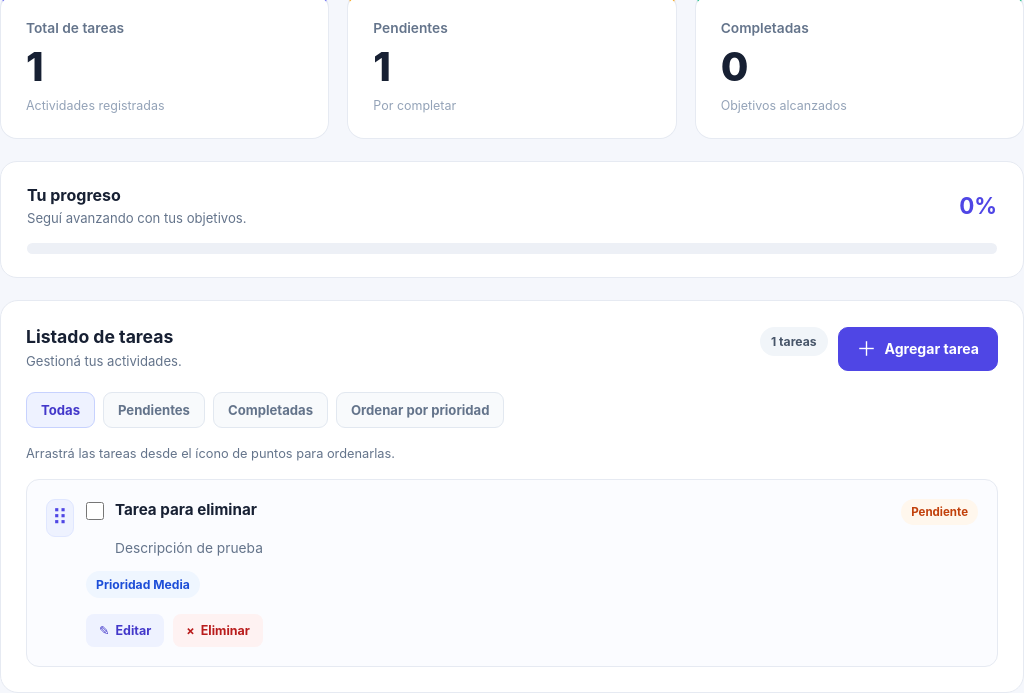
it: TasksPage › elimina una tarea cuando el usuario confirma
(page scrolled)
Step 1. Click the button "× Eliminar" → click(218, 631), box [173,614,263,647]
(page scrolled)
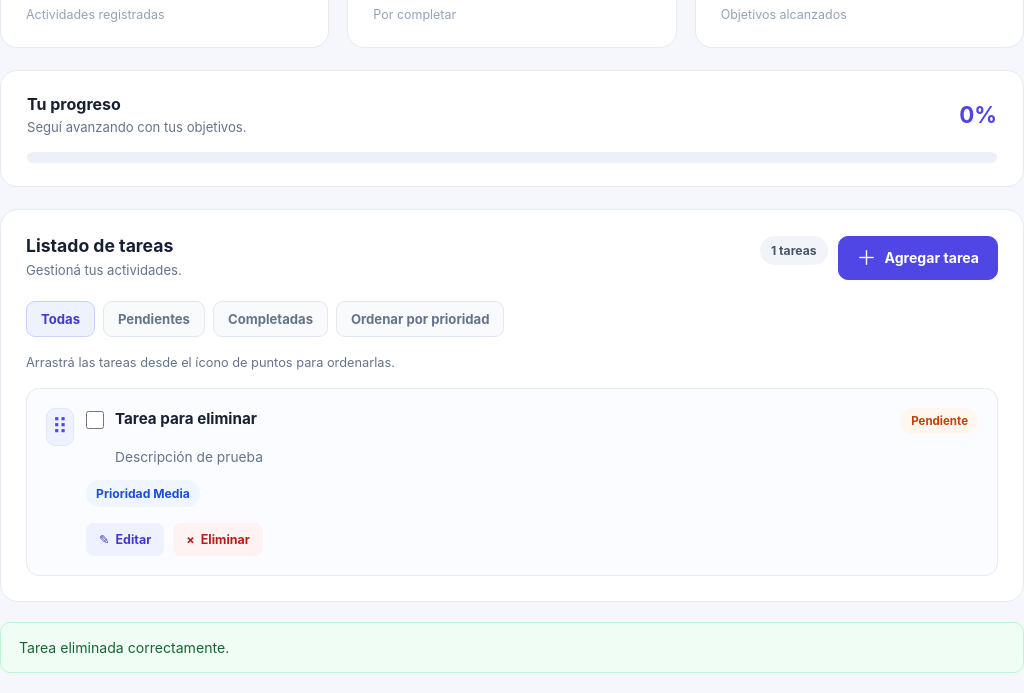
Result: the text "Tarea eliminada correctamente." is shown at [0,622,1023,673]
